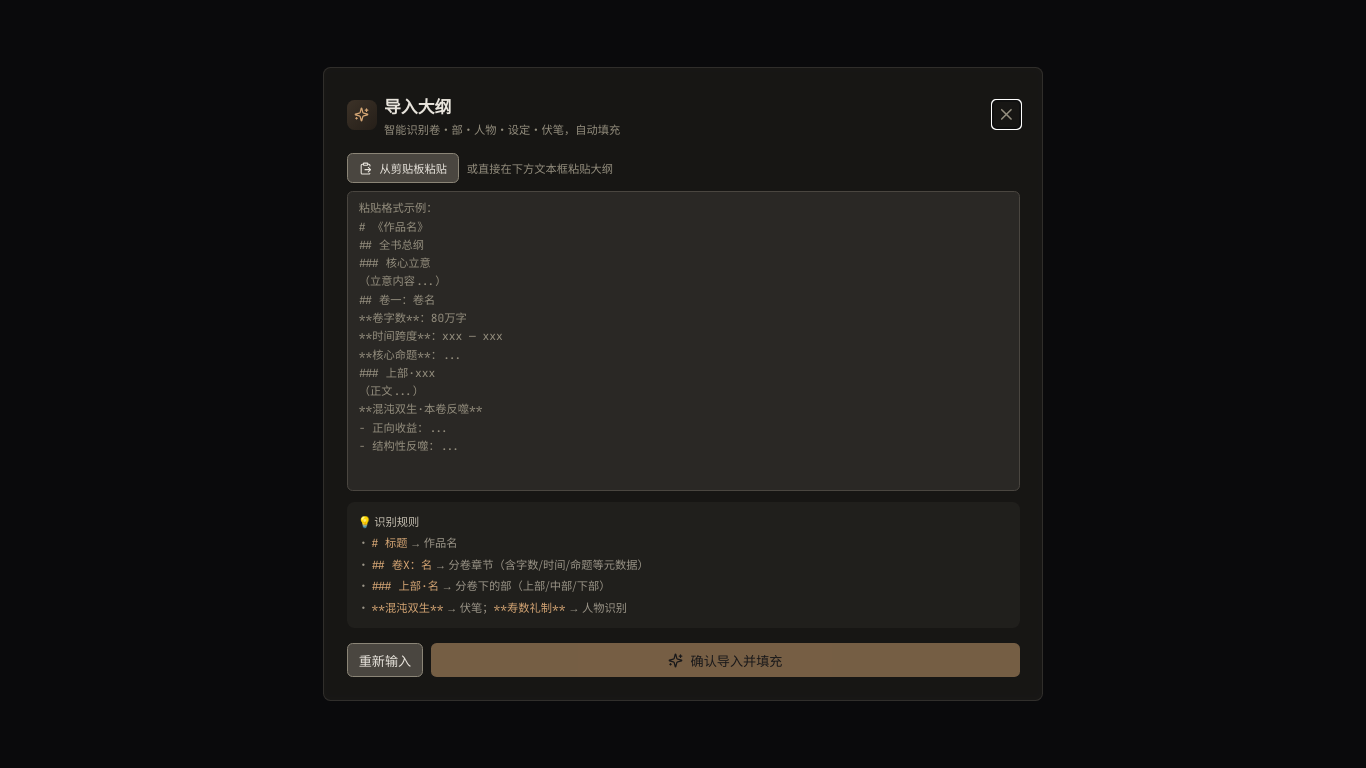
Test: OutlineImportModal › 解析结果无卷无设定时显示错误
Replace the text in the text box with placeholder "粘贴格式示例" with "# 只有标题". click: (683, 341)
box: [346,191,1020,491]
Wait 450 ms
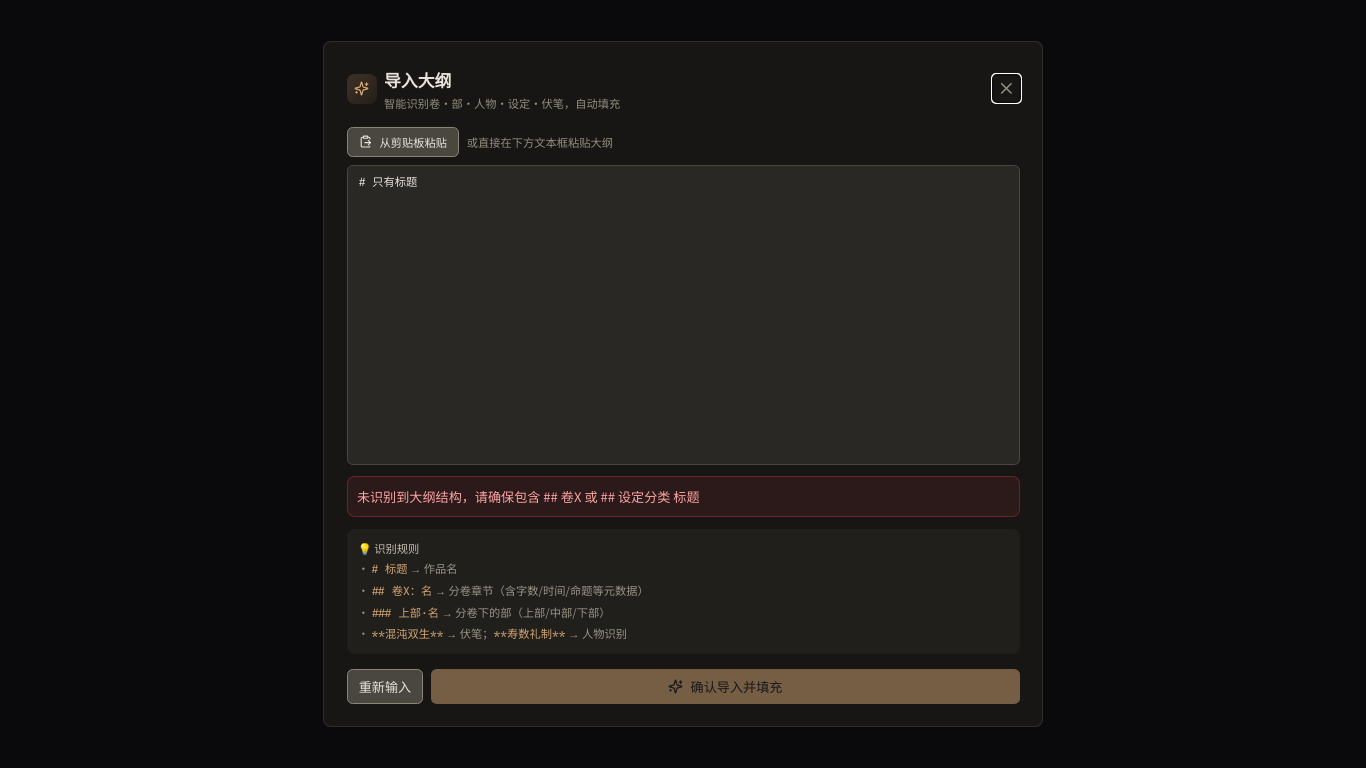
Now the text "未识别到大纲结构，请确保包含 ## 卷X 或 ## 设定分类 标题" is shown, box [346,476,1020,517]
